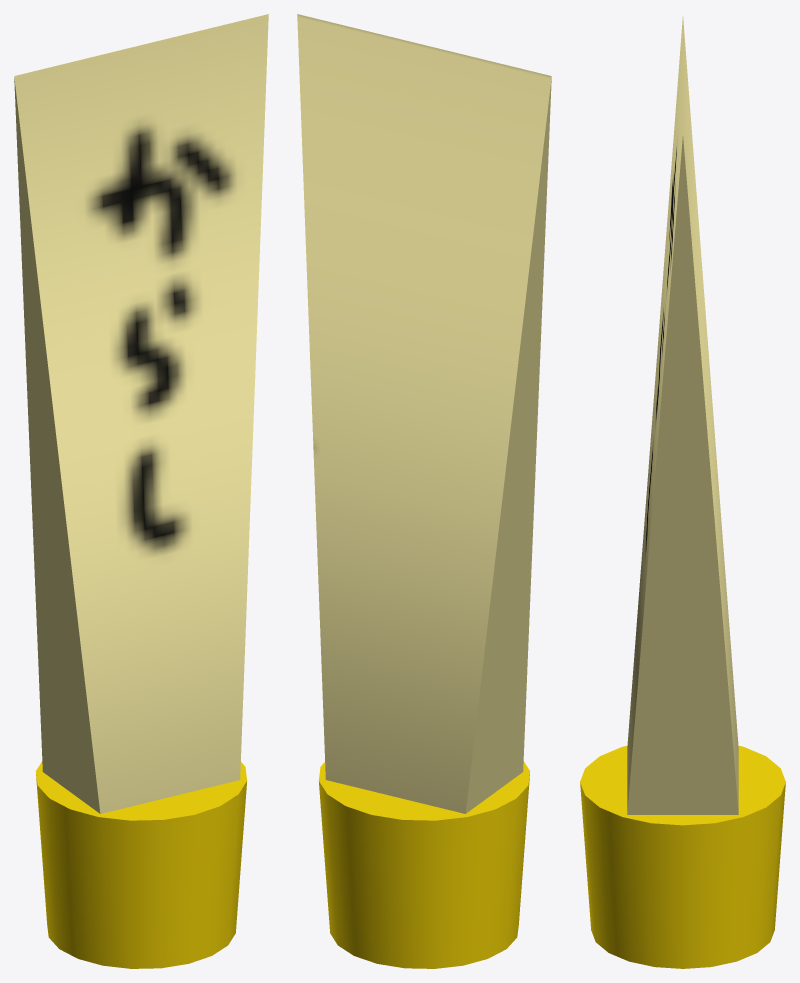
Rendered from karashi.fbx.
3 renders of one model, left to right at view 1: azimuth 30°, elevation 25°; view 2: azimuth 150°, elevation 25°; view 3: azimuth 270°, elevation 25°, orthographic. The views are drawn at different scales.
Visible parts, largest first — view 1: pCube2; view 2: pCube2; view 3: pCube2.
Part boxes in pixels (box(x1,y1,x2,y2)): pCube2: box(14, 14, 268, 968); pCube2: box(297, 14, 551, 968); pCube2: box(580, 16, 785, 968).
Size of the model in its own units: 1.31 by 4.35 by 0.9479.
Materials: 1 (1 with a texture image).
